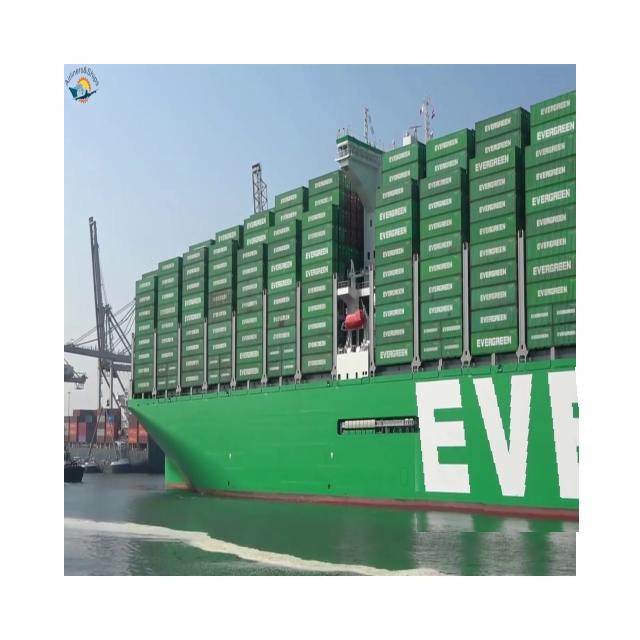OCR: (403, 367, 580, 532)
